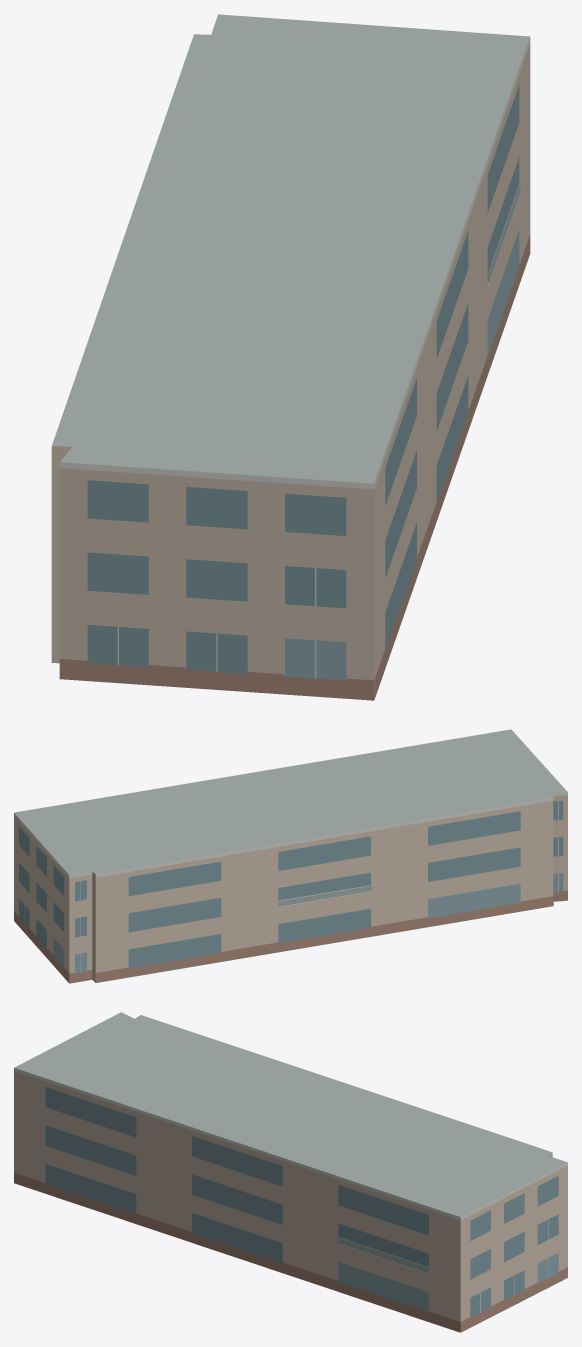
File: survey-upis-32722169.glb
3 views of the same model, one above another, from view 1: azimuth 30°, elevation 25°; view 2: azimuth 150°, elevation 25°; view 3: azimuth 270°, elevation 25° (orthographic). The views are drawn at different scales.
Visible parts, largest first — view 1: survey-upis-32722169.tmp; view 2: survey-upis-32722169.tmp; view 3: survey-upis-32722169.tmp.
Boxes of the visible parts, box(x1,y1,x2,y2) form: survey-upis-32722169.tmp: box(51, 14, 530, 700); survey-upis-32722169.tmp: box(14, 729, 567, 983); survey-upis-32722169.tmp: box(14, 1012, 567, 1332).
Size of the model in its own units: 34.85 by 9.15 by 39.77.
